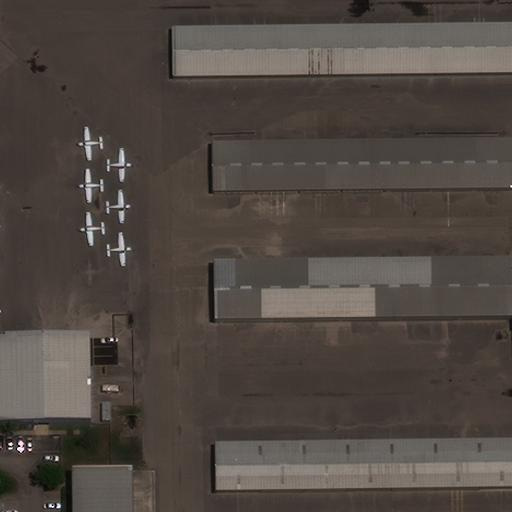Small Civil Transport: (79, 212, 106, 245), (77, 127, 103, 160), (78, 169, 104, 201), (106, 148, 132, 180), (105, 189, 130, 222), (106, 232, 131, 265)
